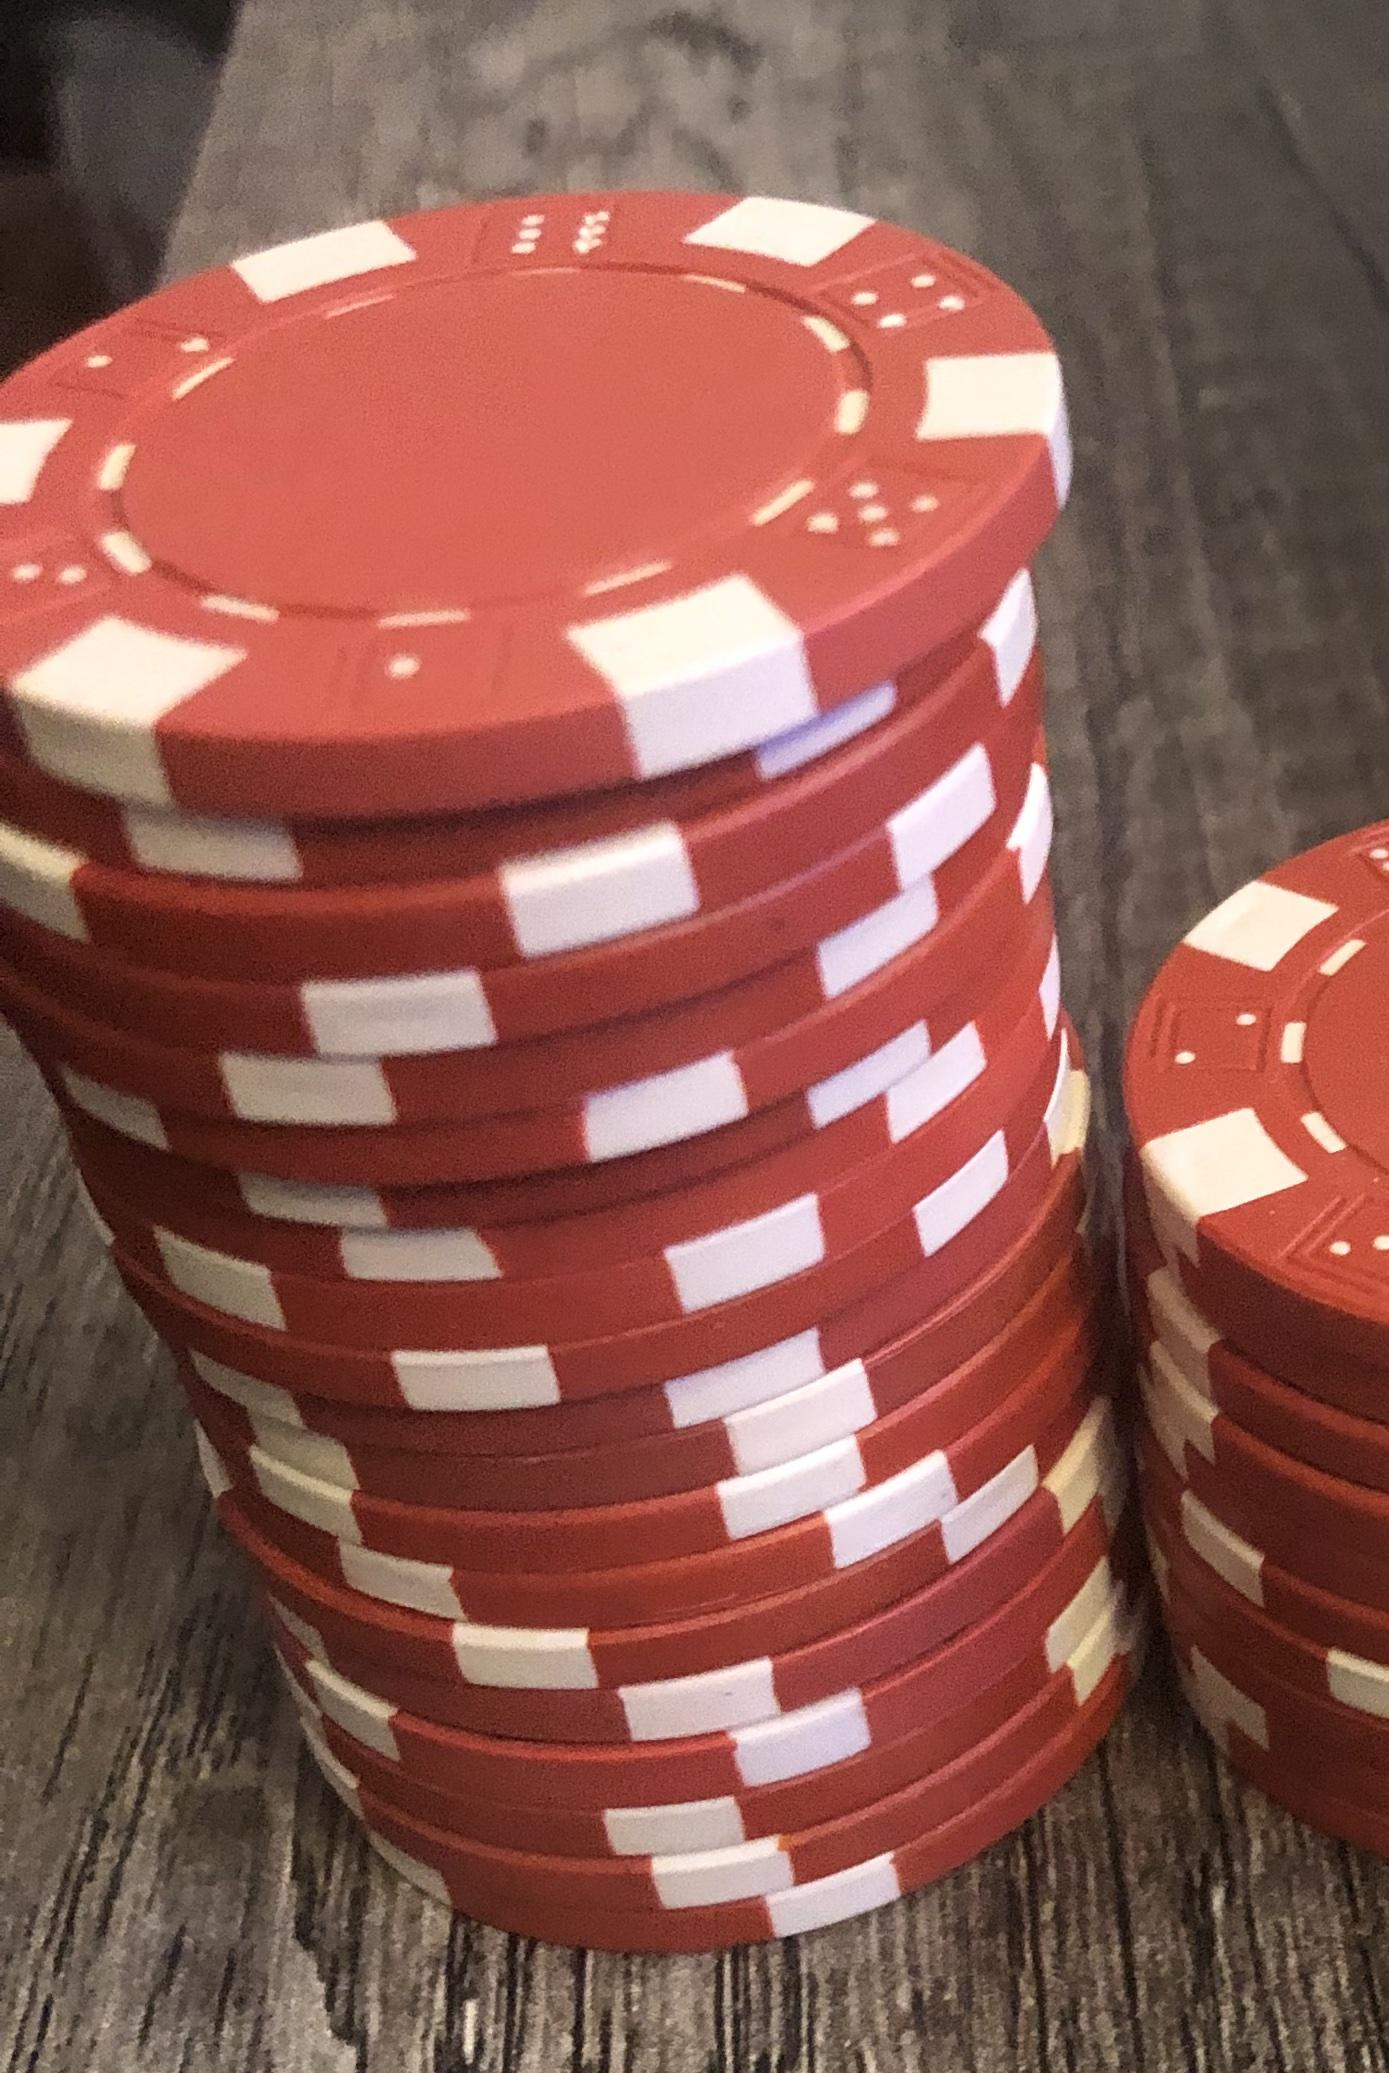Chip: (2, 2, 1389, 2073)
